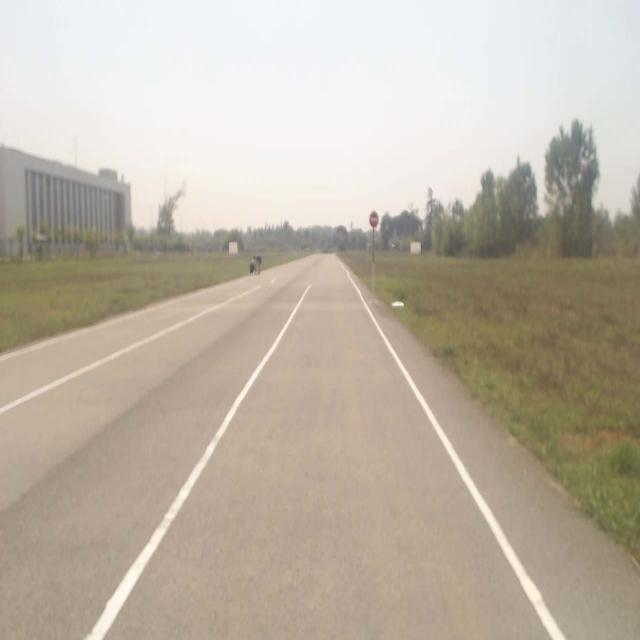girisyok: (369, 212, 378, 228)
